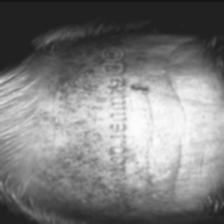Potentially Malignant Skin Tumors: (56, 48, 104, 210)
